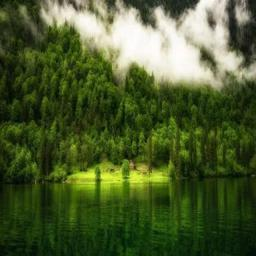Low smoke: (28, 0, 255, 98)
